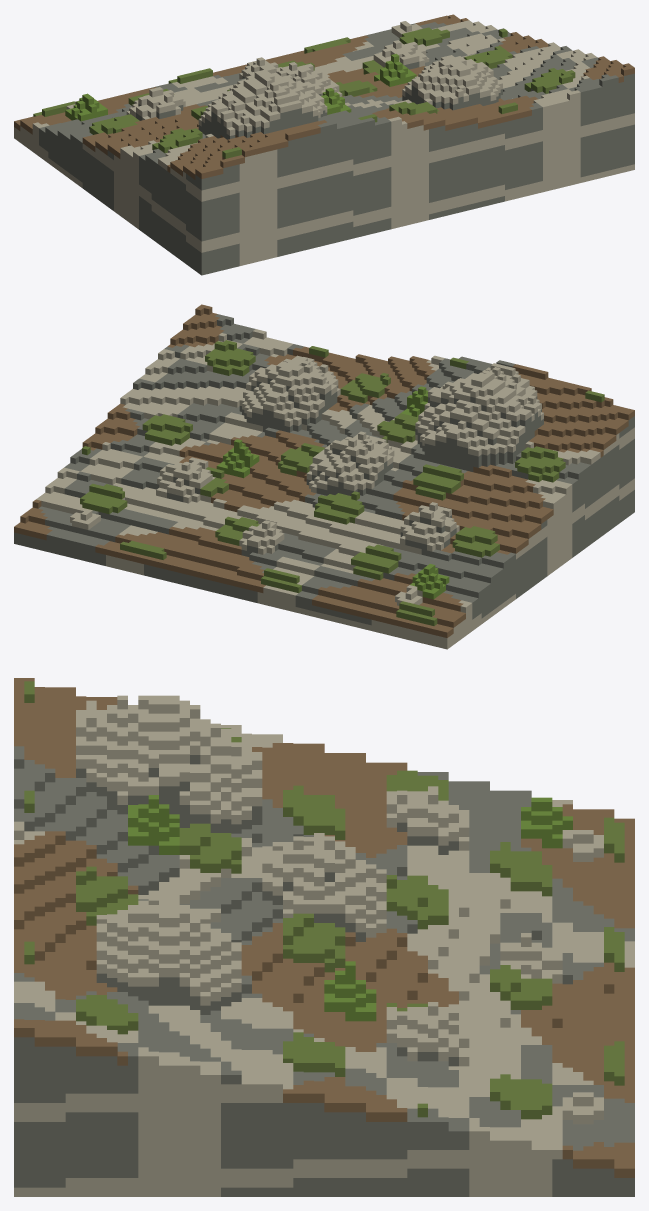
File: ENV-011.glb
The picture shows the model from 3 angles, top to bottom: view 1: azimuth 30°, elevation 25°; view 2: azimuth 150°, elevation 25°; view 3: azimuth 270°, elevation 25°; orthographic projection. The views are drawn at different scales.
Visible parts, largest first — view 1: 坡脚岩屑堆与碎石坡母版; view 2: 坡脚岩屑堆与碎石坡母版; view 3: 坡脚岩屑堆与碎石坡母版.
Part boxes in pixels (x1,y1,x2,y2): 坡脚岩屑堆与碎石坡母版: (14,14,634,275); 坡脚岩屑堆与碎石坡母版: (14,304,634,649); 坡脚岩屑堆与碎石坡母版: (14,678,634,1196).
Size of the model in its own units: 16 by 5 by 12.
5 materials, 5 textured.
